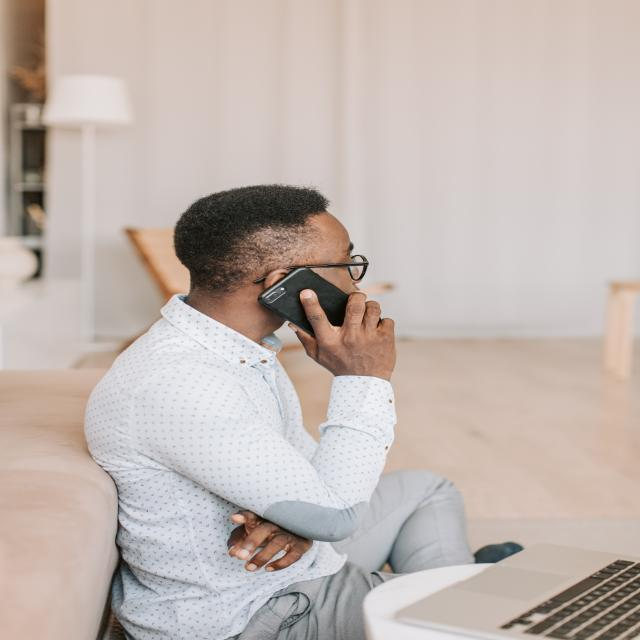phone: (258, 267, 376, 335)
